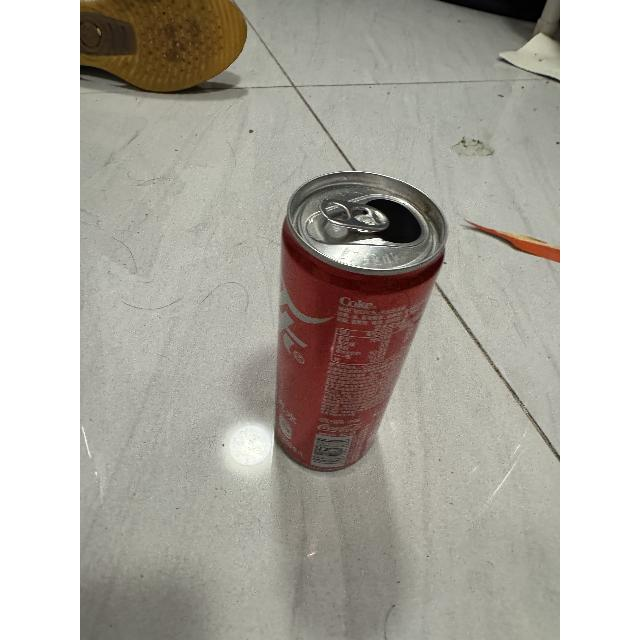coca-cola: (266, 164, 448, 476)
